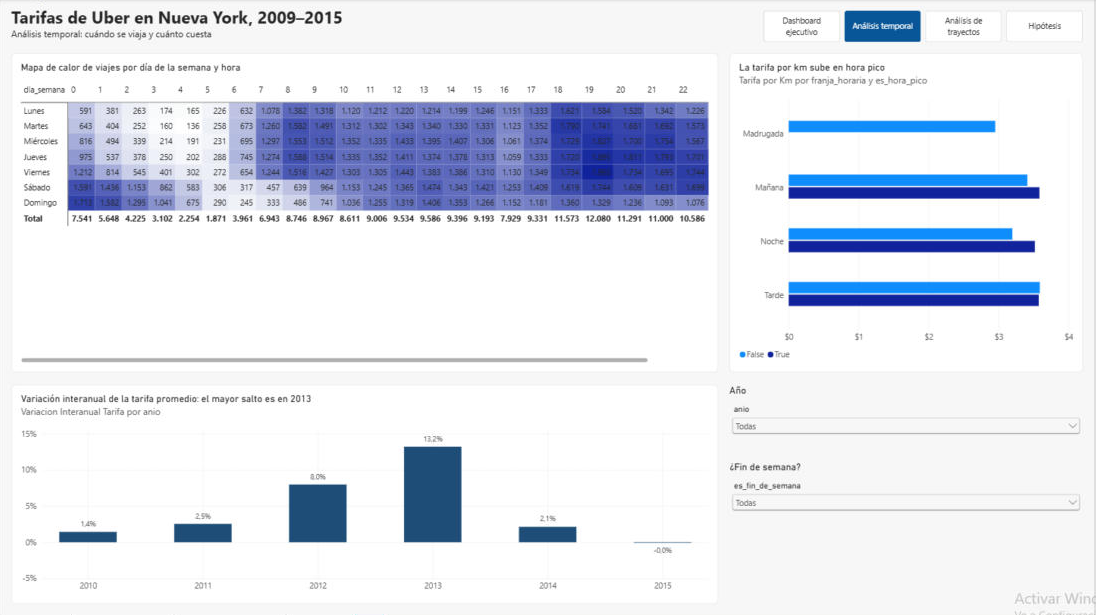

What the dashboard file says about the page in this screenshot:
{"tool":"powerbi","page":{"name":"Análisis temporal","canvas":[1920,1080],"ordinal":1},"visuals":[{"type":"textbox","box":[20,10,1300,75],"z":1000},{"type":"pageNavigator","box":[1340,20,560,55],"z":2000},{"type":"pivotTable","title":"Mapa de calor de viajes por día de la semana y hora","fields":{"Columns":["dim_hora.hora"],"Rows":["dim_fecha.dia_semana"],"Values":["_Medidas.Total Viajes"]},"box":[20,95,1240,560],"z":3000},{"type":"clusteredBarChart","title":"La tarifa por km sube en hora pico","fields":{"Category":["dim_hora.franja_horaria"],"Series":["fact_viajes.es_hora_pico"],"Y":["_Medidas.Tarifa por Km"]},"box":[1280,95,620,560],"z":4000},{"type":"clusteredColumnChart","title":"Variación interanual de la tarifa promedio: el mayor salto es en 2013","fields":{"Category":["dim_fecha.anio"],"Y":["_Medidas.Variacion Interanual Tarifa"]},"box":[20,675,1240,385],"z":5000},{"type":"slicer","title":"Año","fields":{"Values":["dim_fecha.anio"]},"box":[1280,675,620,120],"z":6000},{"type":"slicer","title":"¿Fin de semana?","fields":{"Values":["dim_fecha.es_fin_de_semana"]},"box":[1280,810,620,120],"z":7000}]}

Visuals, with their boxes on the page's 1920x1080 design canvas (x1, y1, x2, y2). These are canvas units, not pixel positions in the 1096x615 screenshot, which may show the page scaled, cropped or inside an application window:
textbox: box(20, 10, 1320, 85)
pageNavigator: box(1340, 20, 1900, 75)
"Mapa de calor de viajes por día de la semana y hora" pivotTable: box(20, 95, 1260, 655)
"La tarifa por km sube en hora pico" clusteredBarChart: box(1280, 95, 1900, 655)
"Variación interanual de la tarifa promedio: el mayor salto es en 2013" clusteredColumnChart: box(20, 675, 1260, 1060)
"Año" slicer: box(1280, 675, 1900, 795)
"¿Fin de semana?" slicer: box(1280, 810, 1900, 930)
